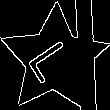L_NE: (26, 33, 82, 86)
